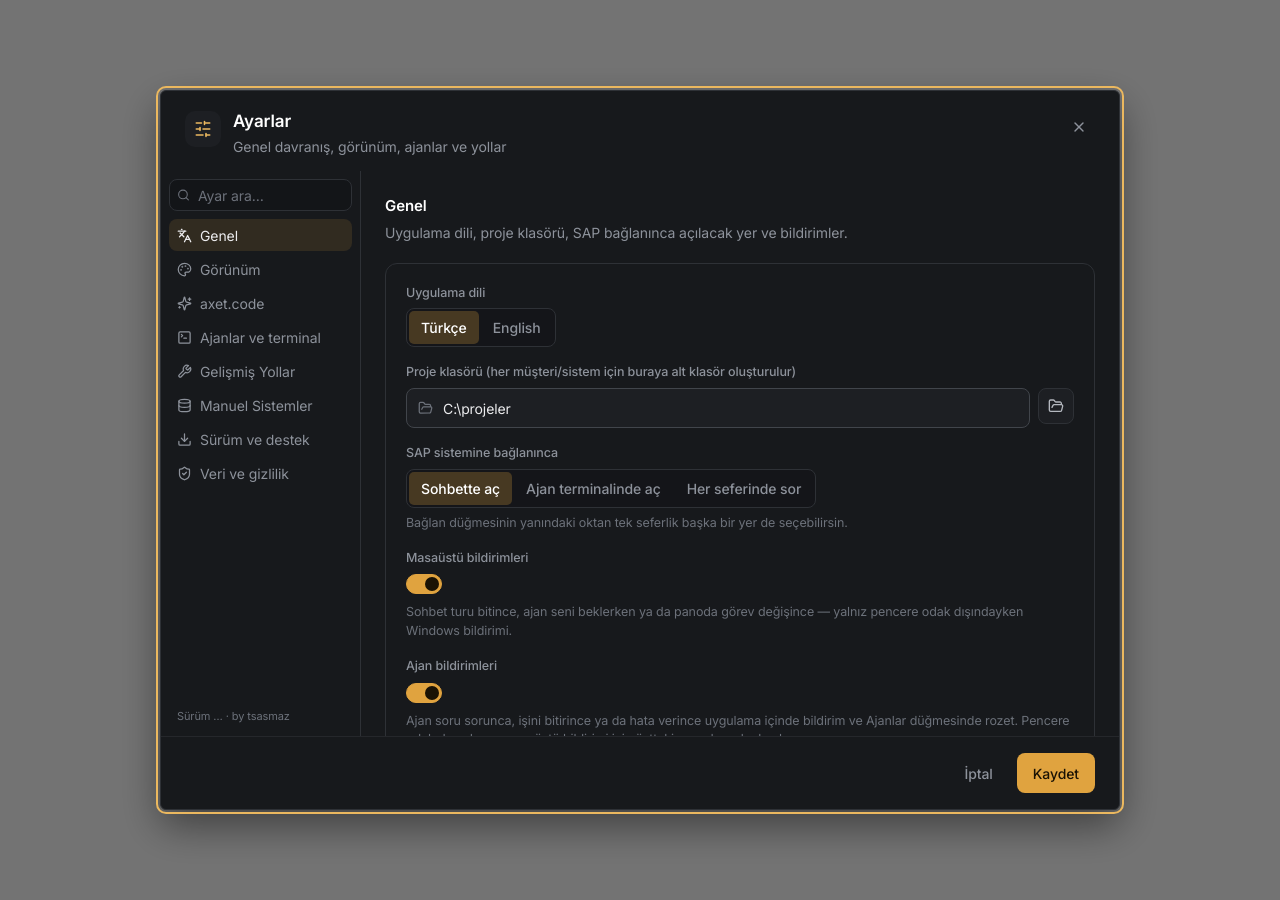
Test case: Ayarlar — iki sütun › yalnız seçili bölüm görünüyor; landmark kalabalığı yok
The image size is (1280, 900).
Expected: the element "Tema" is not shown
What coordinates should you click on to do the following:
click the tab "Görünüm"
I would click on:
 (260, 269)
Its box is [169, 253, 352, 285].
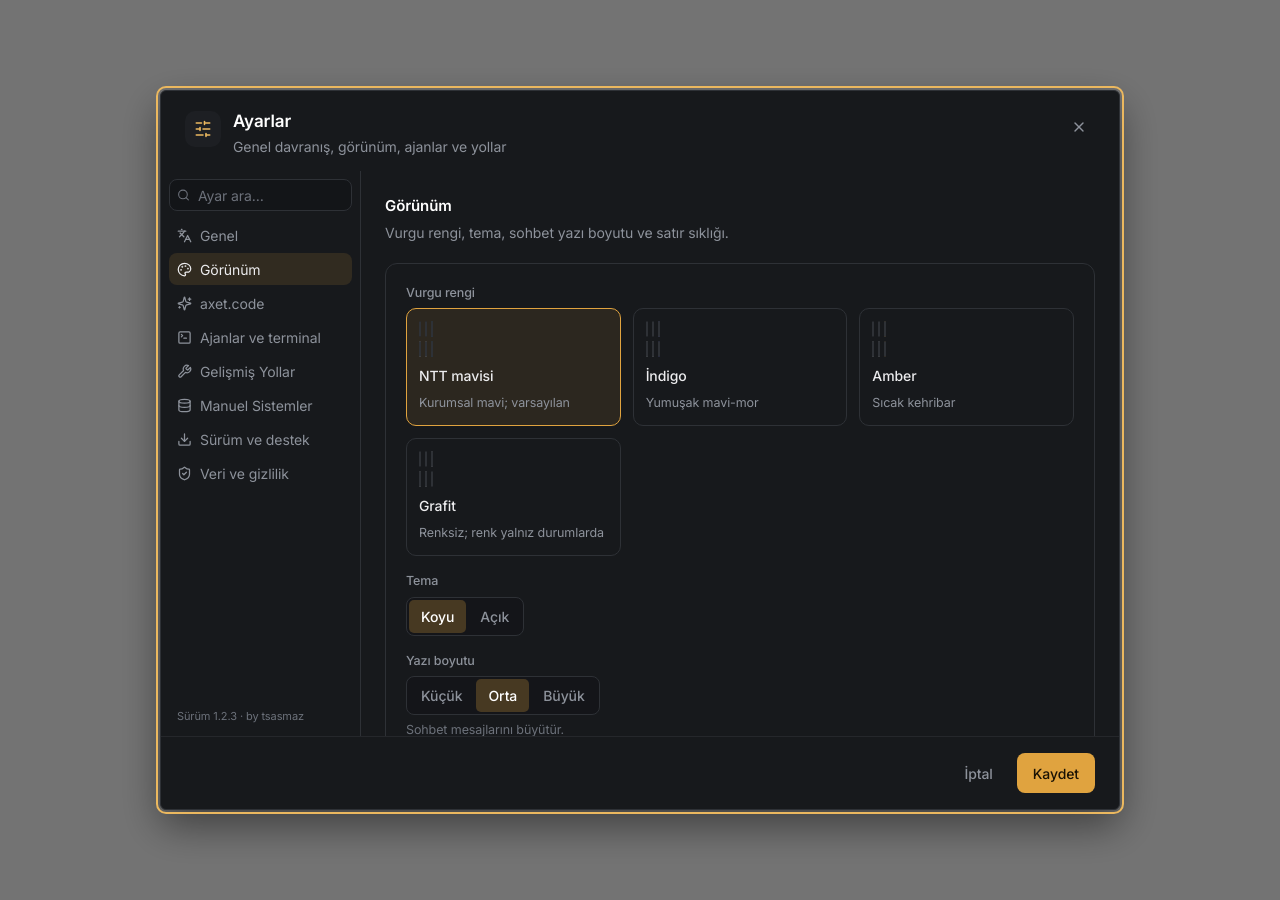
Expected: the element named "Tema" is shown, [406, 596, 524, 636]
Now the text "Uygulama dili" is gone
